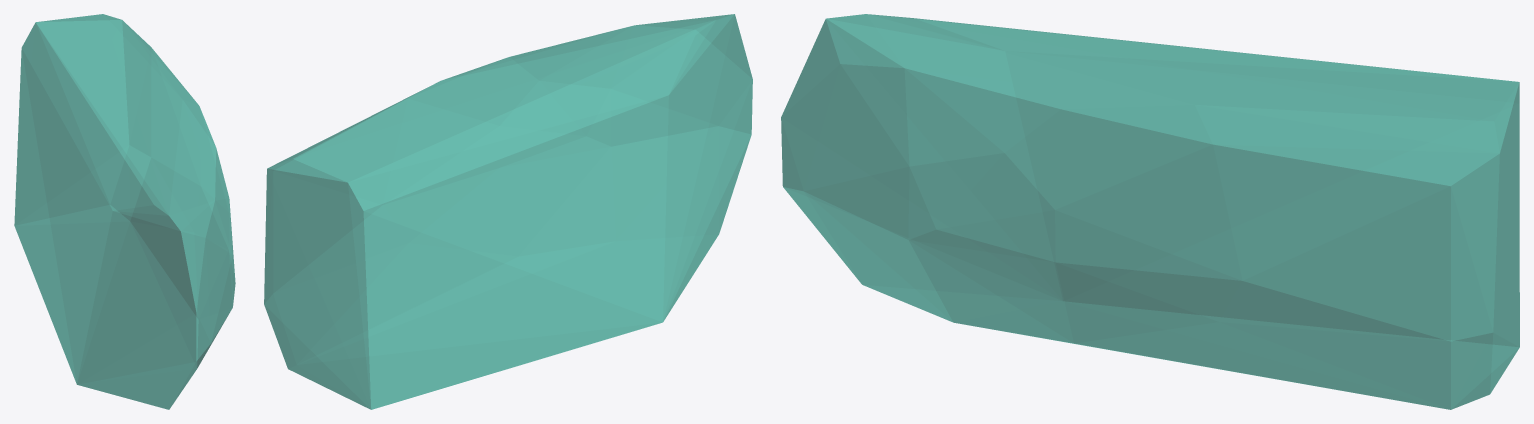
3 renders of one model, left to right at view 1: azimuth 30°, elevation 25°; view 2: azimuth 150°, elevation 25°; view 3: azimuth 270°, elevation 25°, orthographic. The views are drawn at different scales.
Parts seen in each view (by area): view 1: Shape_IndexedFaceSet.016_Shape_IndexedFaceSet.17994; view 2: Shape_IndexedFaceSet.016_Shape_IndexedFaceSet.17994; view 3: Shape_IndexedFaceSet.016_Shape_IndexedFaceSet.17994.
Boxes of the visible parts, left/top/right/bottom form: Shape_IndexedFaceSet.016_Shape_IndexedFaceSet.17994: left=14, top=14, right=235, bottom=409; Shape_IndexedFaceSet.016_Shape_IndexedFaceSet.17994: left=264, top=14, right=752, bottom=409; Shape_IndexedFaceSet.016_Shape_IndexedFaceSet.17994: left=781, top=14, right=1519, bottom=409.
Bounding box in the file's own units: 0.2287 × 0.2217 × 0.4899.
